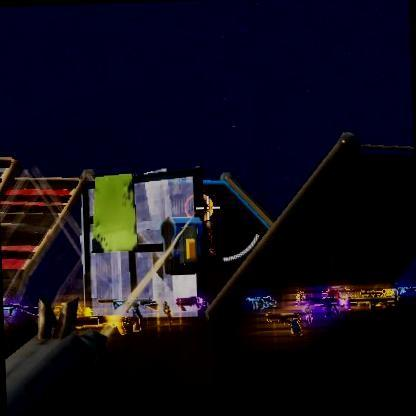person: (197, 196, 214, 240)
